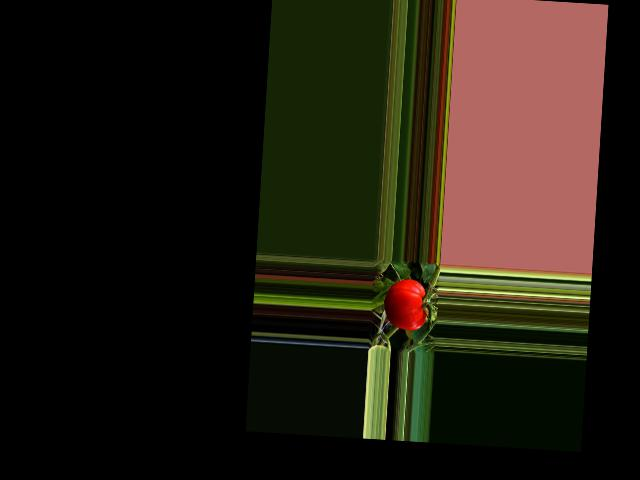tomato: (382, 278, 427, 331)
